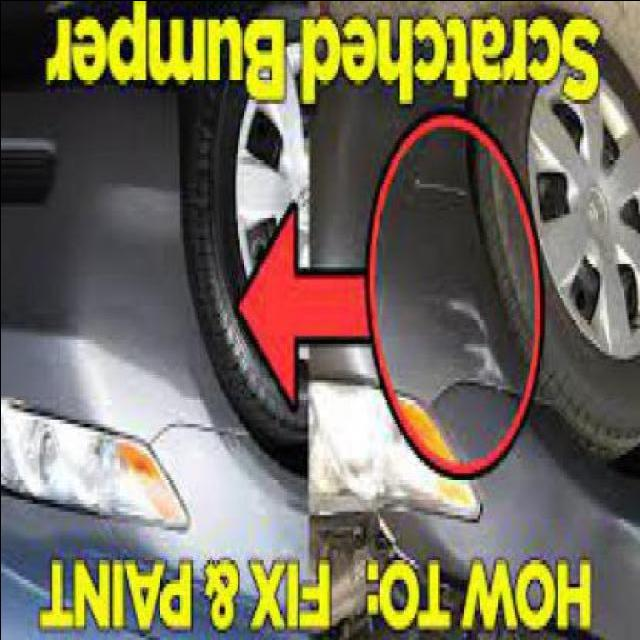front-bumper-dent: (302, 45, 586, 441)
